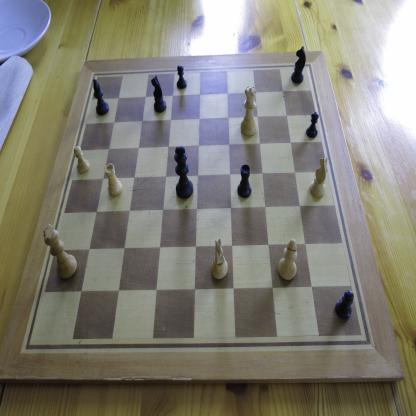black-bishop: (92, 78, 110, 116)
black-king: (174, 146, 194, 200)
black-knight: (291, 46, 306, 84), (151, 75, 166, 113)
black-pawn: (335, 290, 354, 319), (306, 111, 319, 138), (176, 64, 187, 90)
black-rook: (237, 164, 252, 198)
white-bishop: (277, 238, 298, 281)
white-king: (42, 224, 78, 280)
white-knight: (309, 157, 328, 198), (210, 238, 228, 280)
white-pawn: (74, 145, 90, 174)
white-queen: (240, 86, 258, 136)
white-rook: (104, 162, 123, 197)
